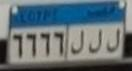6: (38, 29, 52, 59), (14, 30, 27, 58), (53, 30, 65, 58), (26, 31, 38, 56)
ل: (103, 26, 122, 54), (69, 28, 86, 57), (88, 28, 103, 53)
